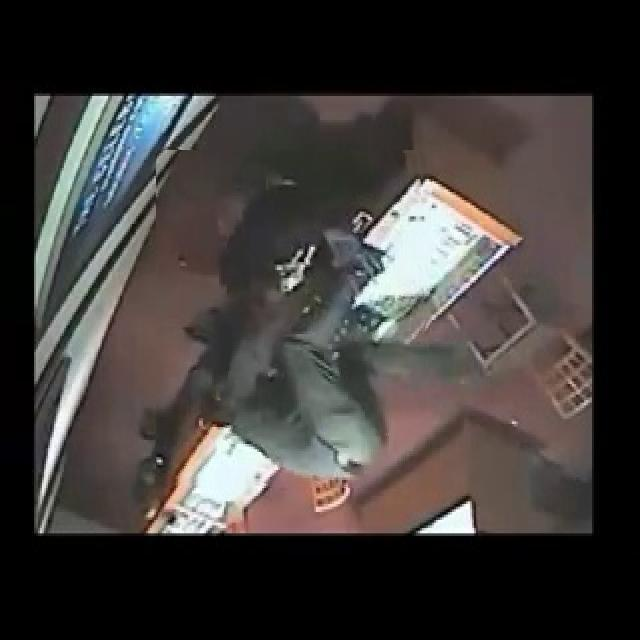Shoplifting: (156, 150, 430, 488)
